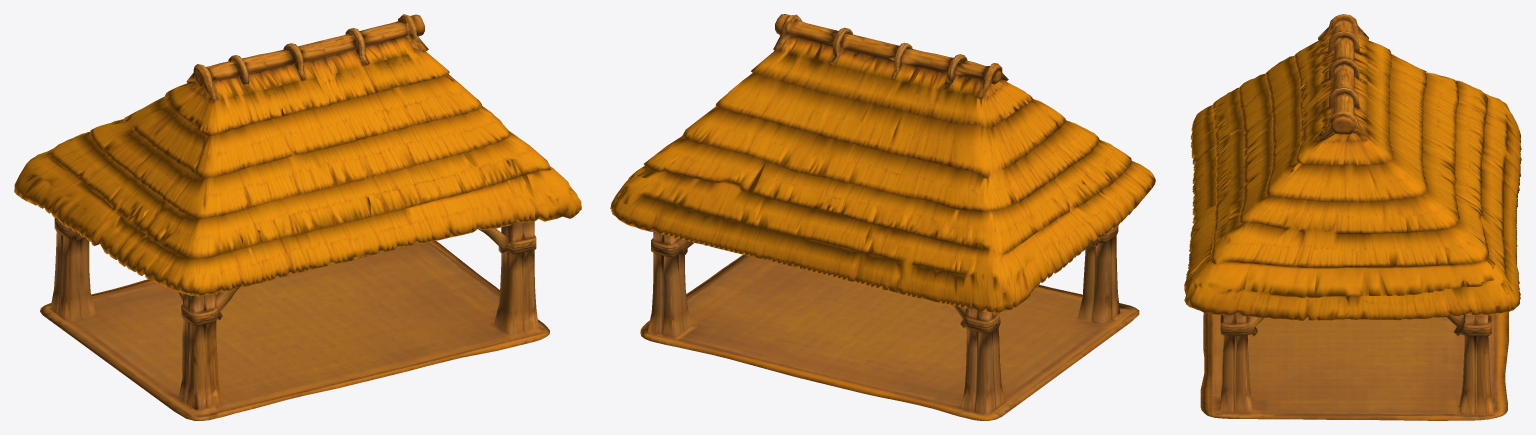
The model's file is threshing_shed.glb.
3 renders of one model, left to right at view 1: azimuth 30°, elevation 25°; view 2: azimuth 150°, elevation 25°; view 3: azimuth 270°, elevation 25°, orthographic. The views are drawn at different scales.
Visible parts, largest first — view 1: tripo_node_a984a0d1-36e6-481d-878b-c1ebe7818701; view 2: tripo_node_a984a0d1-36e6-481d-878b-c1ebe7818701; view 3: tripo_node_a984a0d1-36e6-481d-878b-c1ebe7818701.
Boxes of the visible parts, x1=… form: tripo_node_a984a0d1-36e6-481d-878b-c1ebe7818701: x1=14, y1=14, x2=581, y2=420; tripo_node_a984a0d1-36e6-481d-878b-c1ebe7818701: x1=610, y1=14, x2=1155, y2=420; tripo_node_a984a0d1-36e6-481d-878b-c1ebe7818701: x1=1184, y1=14, x2=1521, y2=420.
Bounding box in the file's own units: 0.9802 × 0.6387 × 0.7116.
1 material, 1 textured.
